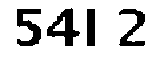2: (110, 5, 153, 52)
4: (44, 6, 81, 50)
5: (8, 2, 44, 51)
I: (82, 5, 104, 50)
